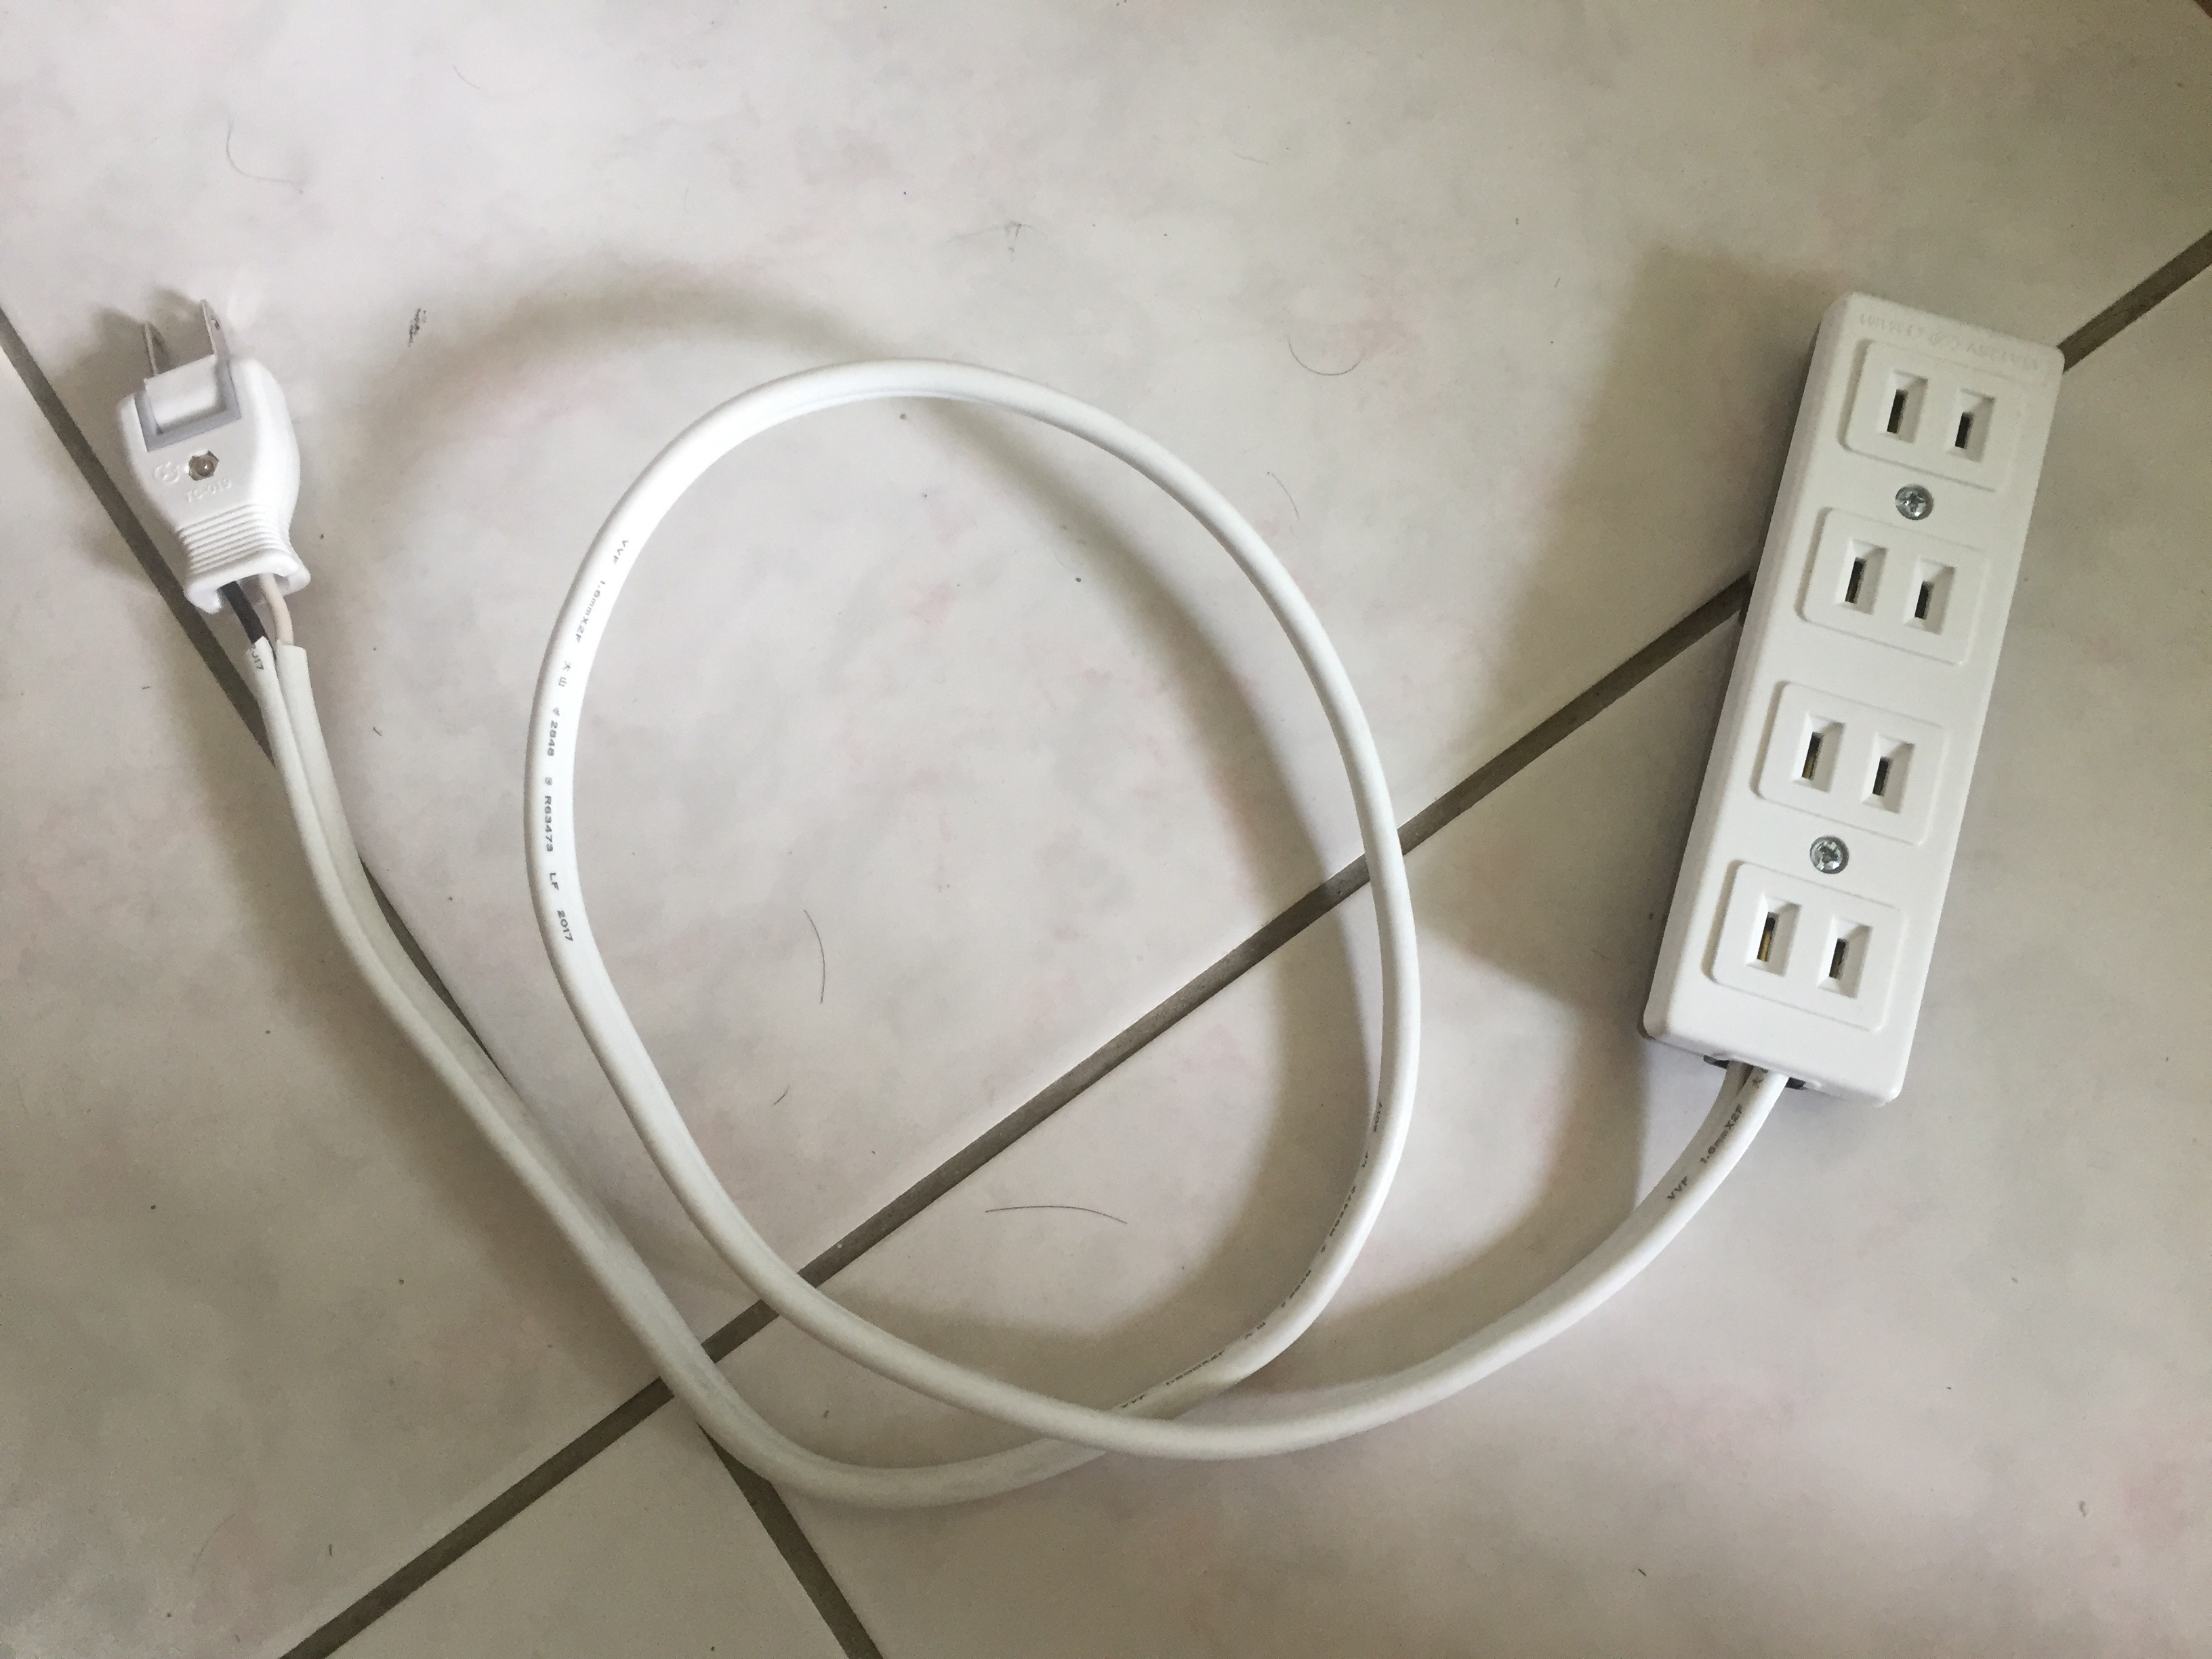socket: (1635, 284, 2066, 1114)
